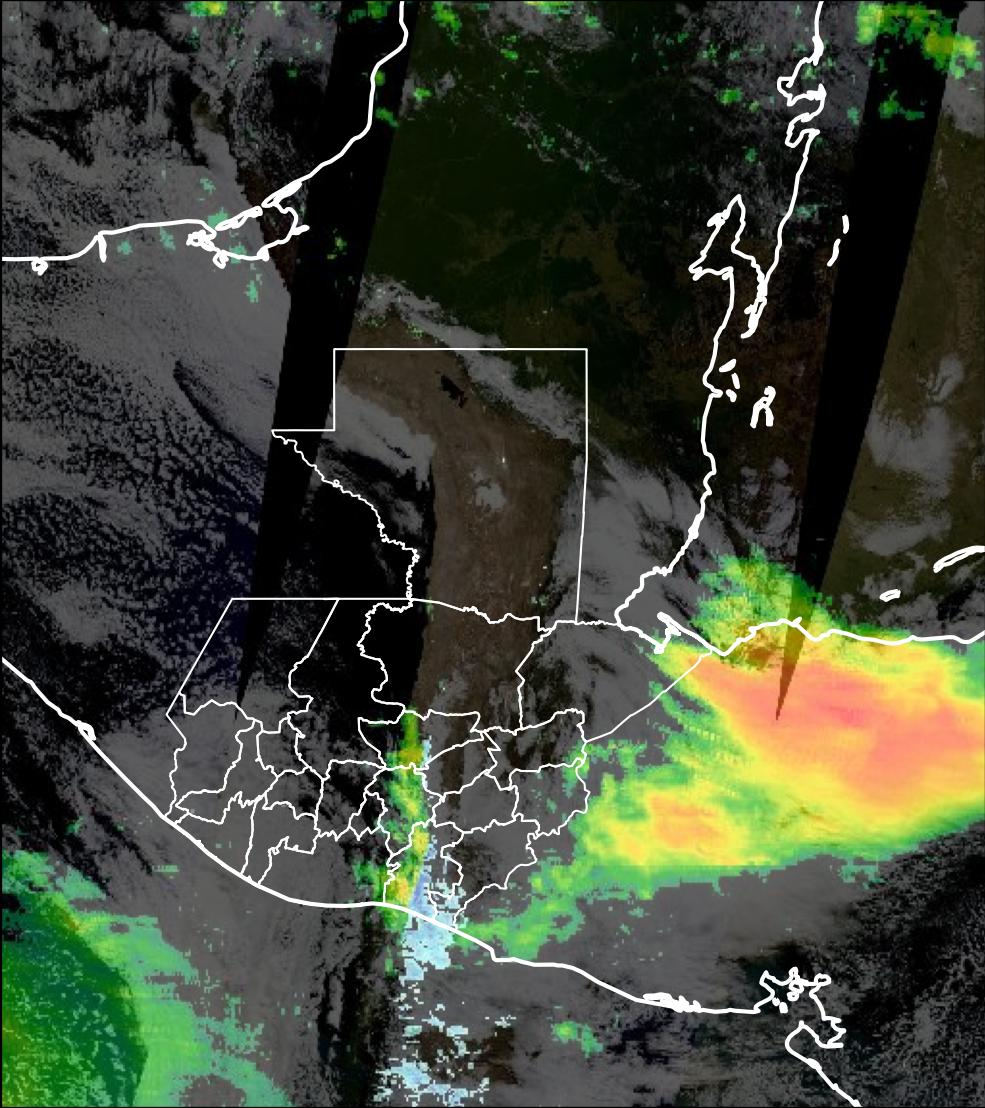precipitacion: (620, 625, 983, 881)
